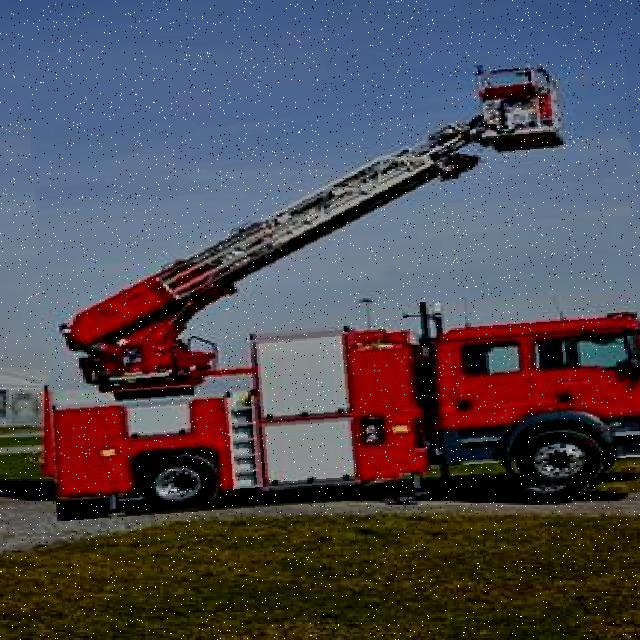pompier: (34, 65, 640, 510)
